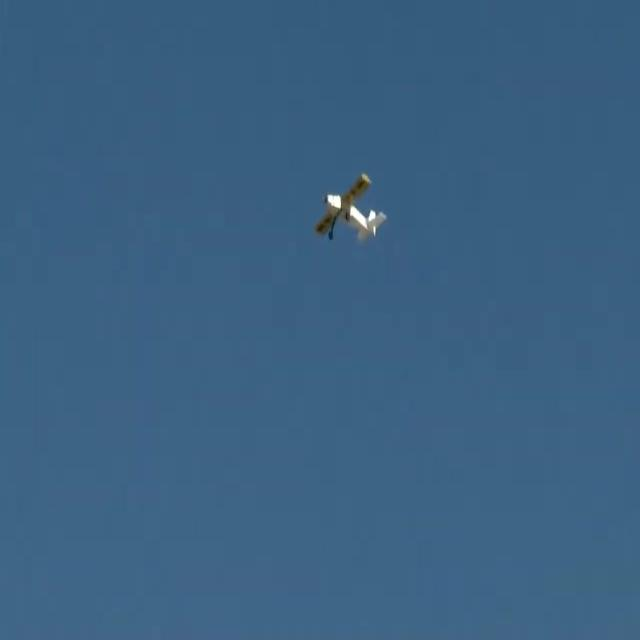iha: (347, 207, 354, 210)
